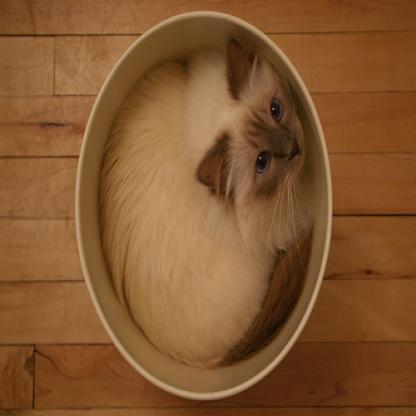cat: (98, 38, 316, 368)
